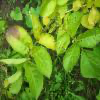Tomato Septoria leaf spot: (30, 45, 54, 81), (62, 39, 79, 73), (66, 8, 82, 41), (77, 27, 100, 48), (38, 33, 58, 51), (56, 31, 70, 56), (30, 12, 41, 41), (87, 6, 99, 26), (48, 22, 58, 34)
